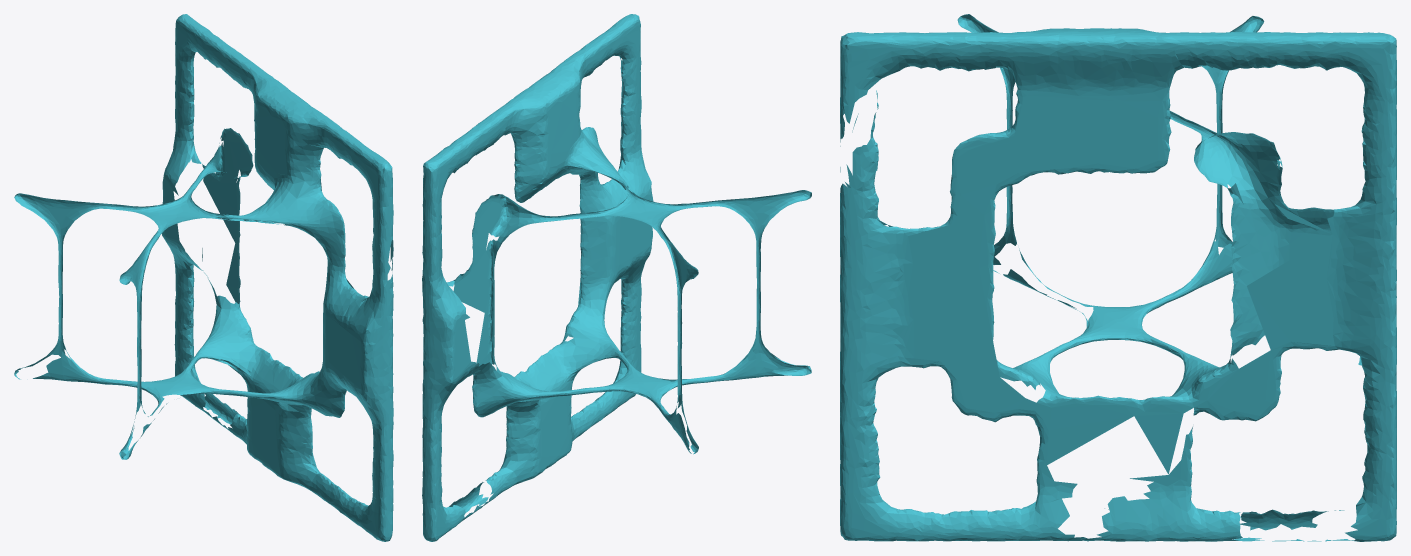
The picture shows the model from 3 angles, left to right: view 1: azimuth 30°, elevation 25°; view 2: azimuth 150°, elevation 25°; view 3: azimuth 270°, elevation 25°; orthographic projection. The views are drawn at different scales.
Parts seen in each view (by area): view 1: Renderer Node; view 2: Renderer Node; view 3: Renderer Node.
Part boxes in pixels (x1,y1,x2,y2): Renderer Node: (14, 14, 393, 541); Renderer Node: (422, 14, 811, 541); Renderer Node: (840, 14, 1396, 541).
Bounding box in the file's own units: 0.4069 × 0.6443 × 0.6443.
Materials: 1 (1 with a texture image).
